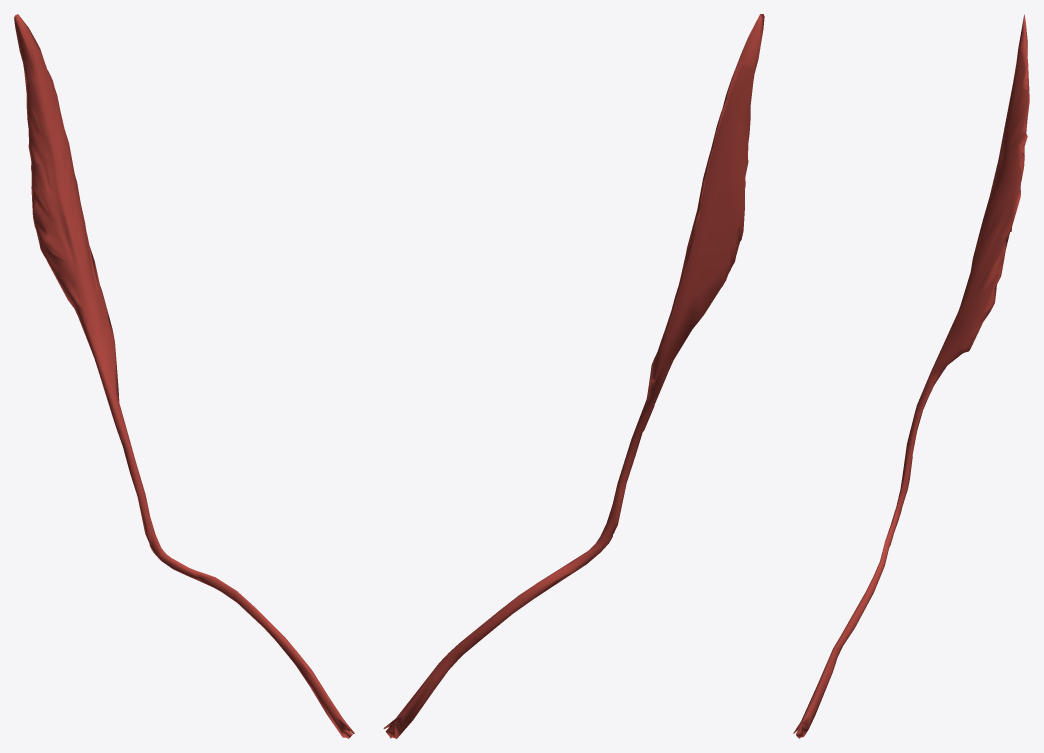
The model's file is musculos-flexor-pollicis-longus-l.glb.
3 views of the same model, side by side, from view 1: azimuth 30°, elevation 25°; view 2: azimuth 210°, elevation 25°; view 3: azimuth 270°, elevation 25° (orthographic). The views are drawn at different scales.
Visible parts, largest first — view 1: Flexor pollicis longus.l; view 2: Flexor pollicis longus.l; view 3: Flexor pollicis longus.l.
Part boxes in pixels (bbox=[...]): Flexor pollicis longus.l: bbox=[14, 14, 354, 738]; Flexor pollicis longus.l: bbox=[383, 14, 764, 738]; Flexor pollicis longus.l: bbox=[793, 14, 1029, 738].
Size of the model in its own units: 0.0781 by 0.2381 by 0.0808.
